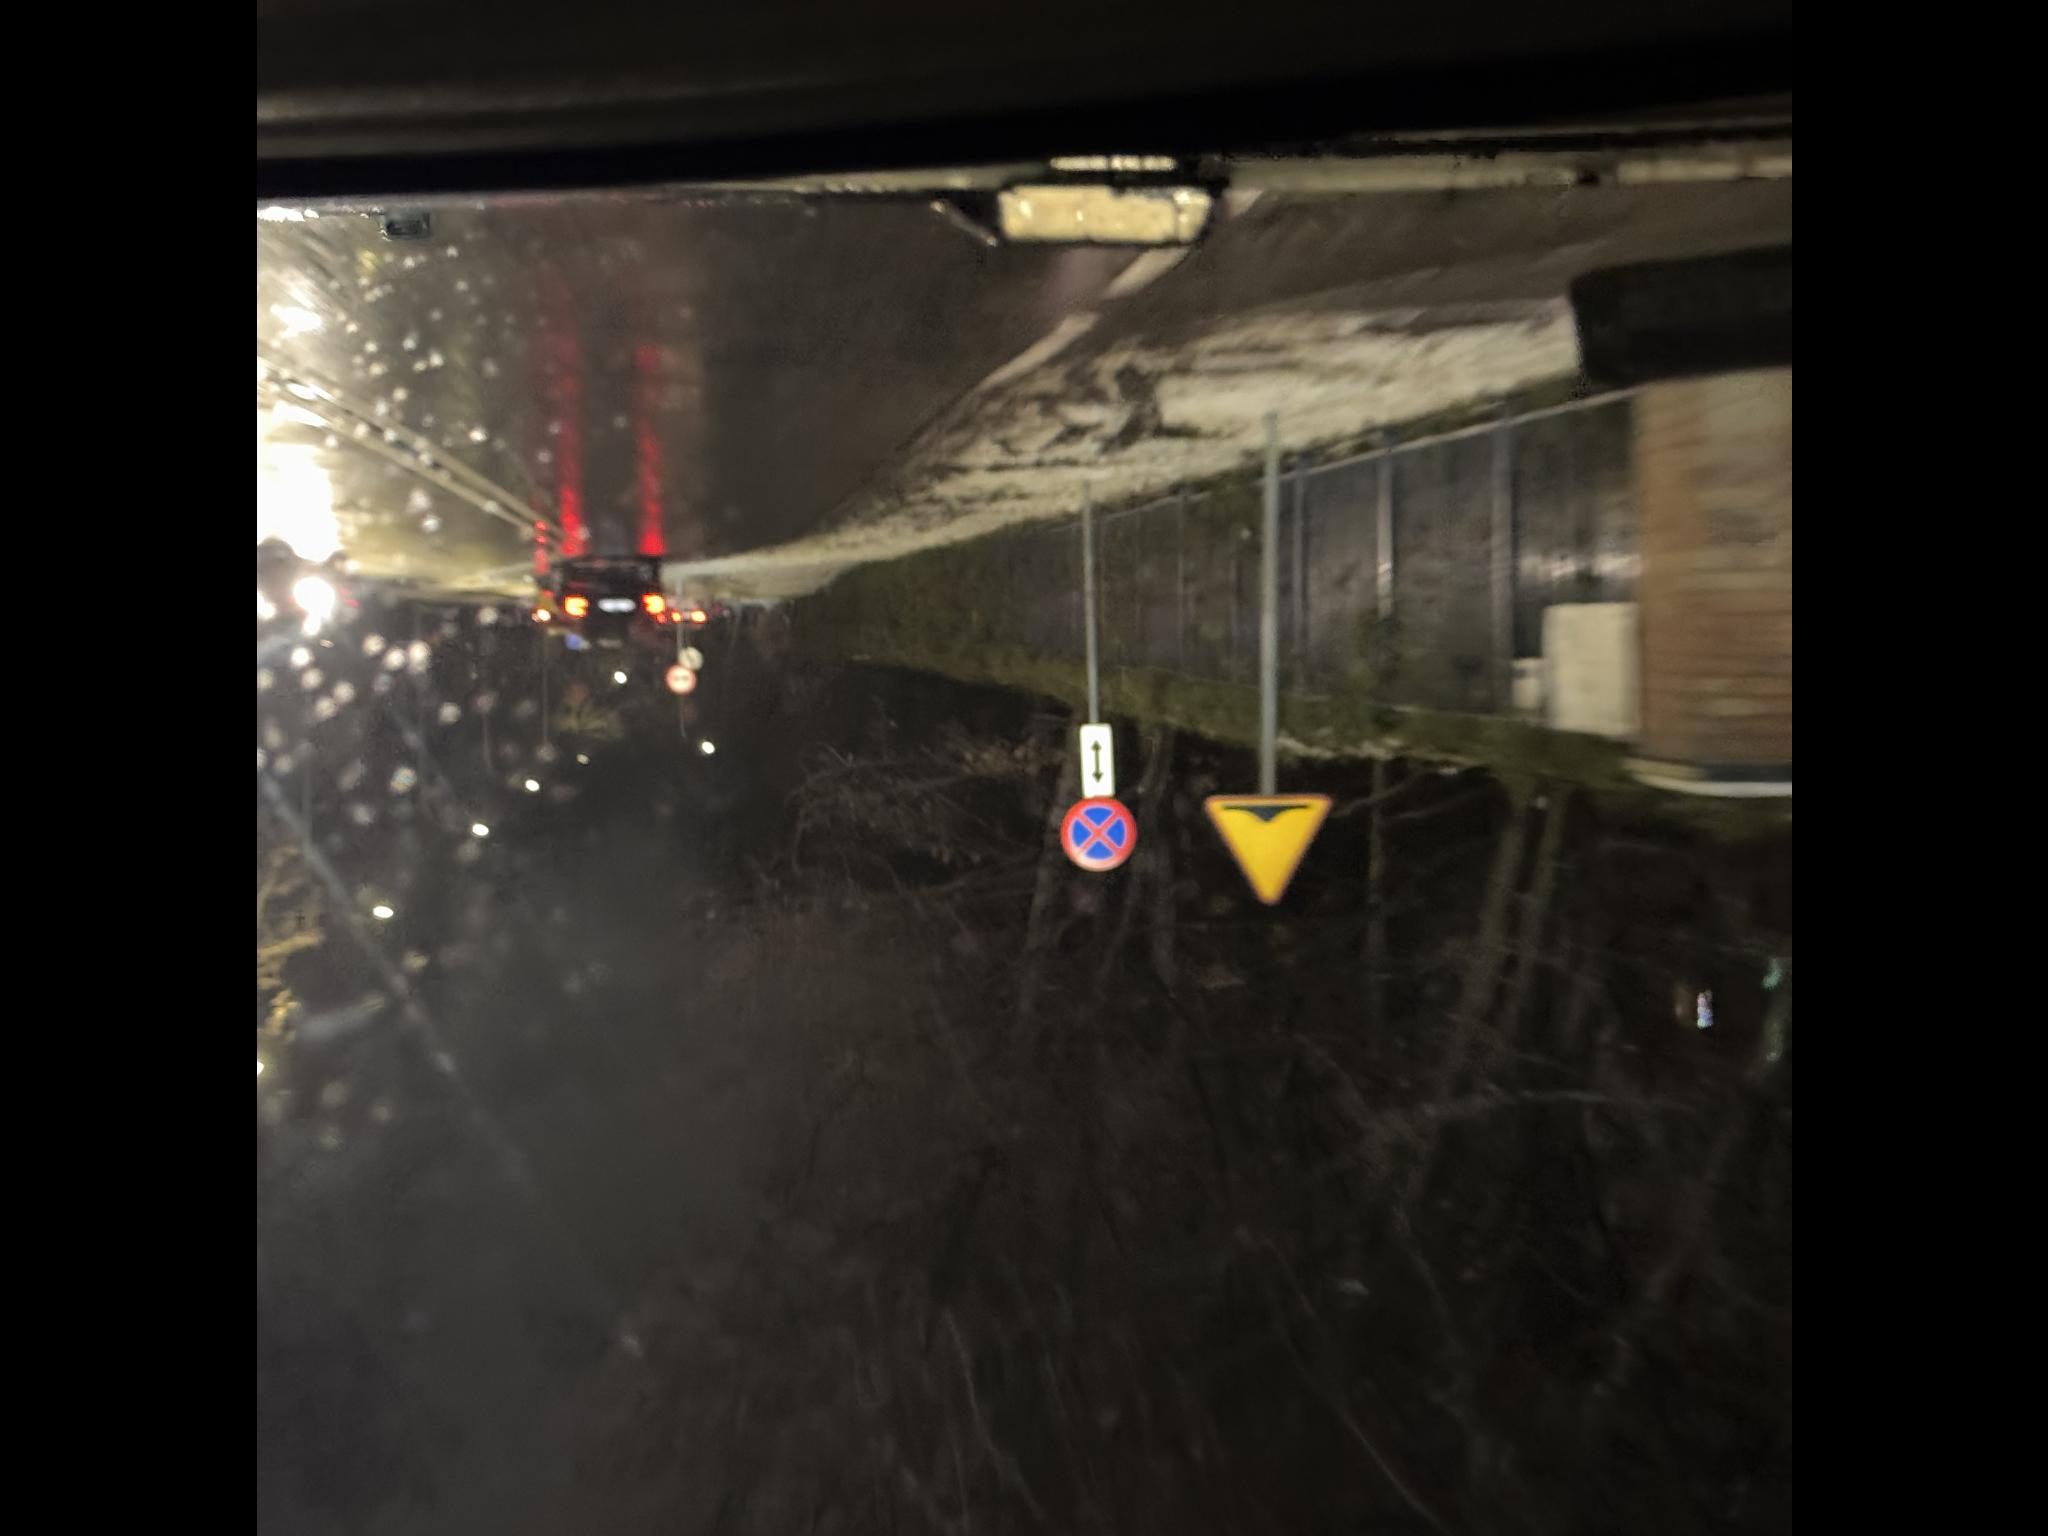other: (726, 936, 801, 970)
prohibitory: (798, 910, 872, 987)
warning: (793, 716, 908, 845)
